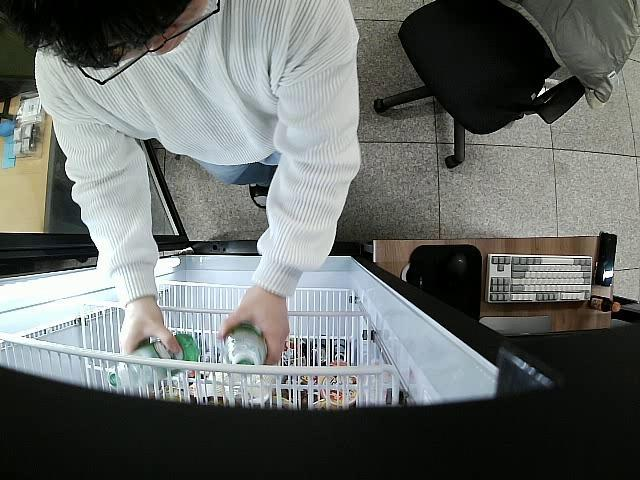18_trevi: (106, 332, 202, 391), (220, 326, 266, 378)
